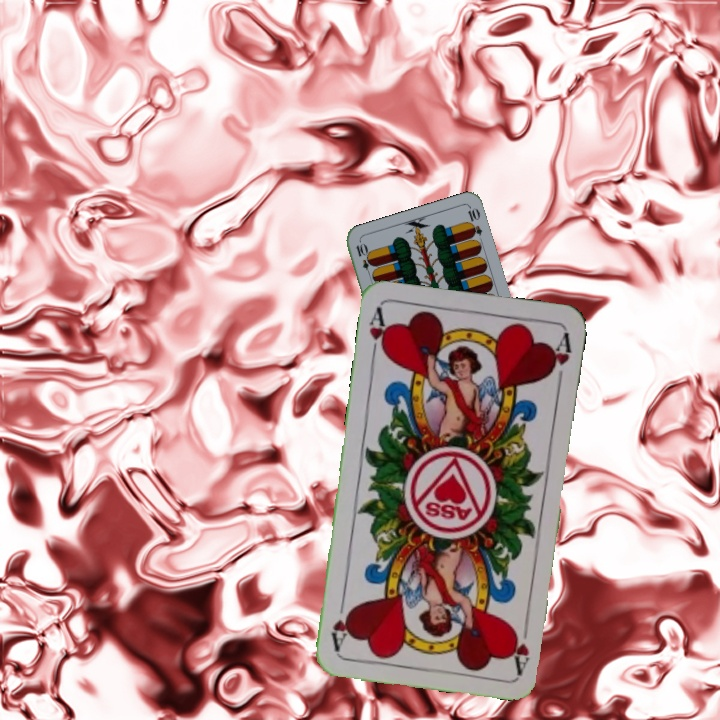E10: (352, 239, 375, 279)
HA: (365, 304, 391, 364), (509, 616, 533, 675)
